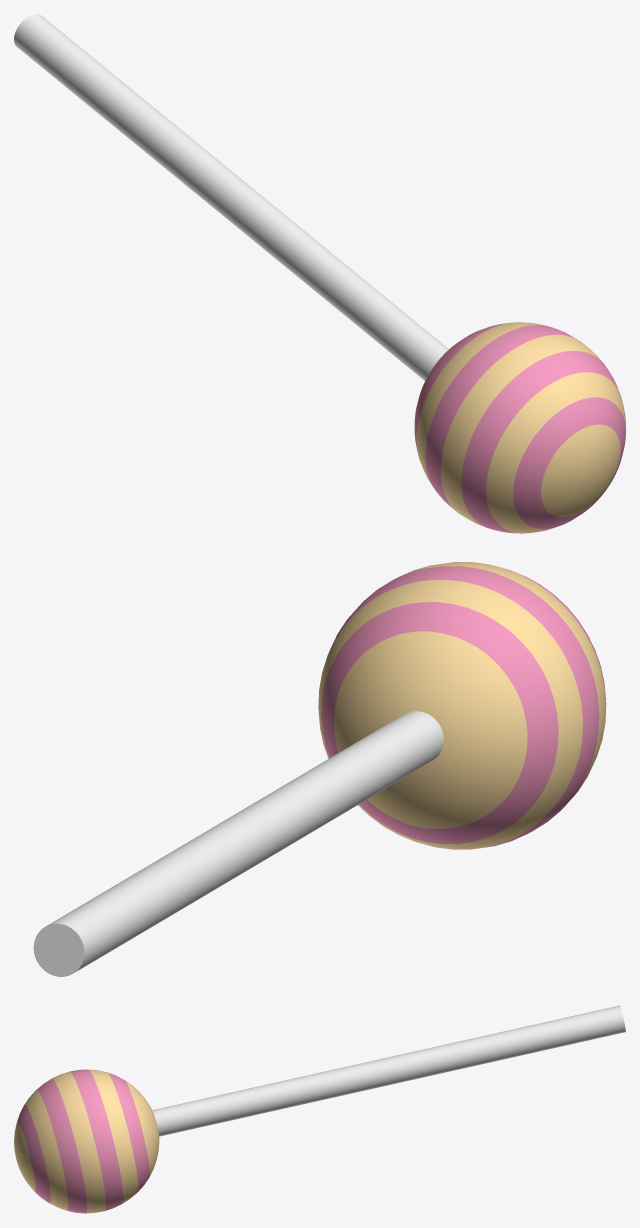
The model's file is Sucker.gltf.
3 renders of one model, top to bottom at view 1: azimuth 30°, elevation 25°; view 2: azimuth 150°, elevation 25°; view 3: azimuth 270°, elevation 25°, orthographic. The views are drawn at different scales.
Visible parts, largest first — view 1: mouth3-PBR, mouth3-PBR.2, mouth3-PBR.1; view 2: mouth3-PBR.2, mouth3-PBR, mouth3-PBR.1; view 3: mouth3-PBR, mouth3-PBR.2, mouth3-PBR.1.
Part boxes in pixels (x1,y1,x2,y2): mouth3-PBR: [14, 14, 448, 380]; mouth3-PBR.2: [416, 322, 625, 533]; mouth3-PBR.1: [414, 323, 625, 533]; mouth3-PBR.2: [318, 562, 606, 849]; mouth3-PBR: [33, 711, 443, 976]; mouth3-PBR.1: [321, 566, 606, 846]; mouth3-PBR: [152, 1005, 625, 1136]; mouth3-PBR.2: [14, 1069, 159, 1213]; mouth3-PBR.1: [17, 1069, 149, 1213].
Size of the model in its own units: 0.5341 by 0.6087 by 2.01.
